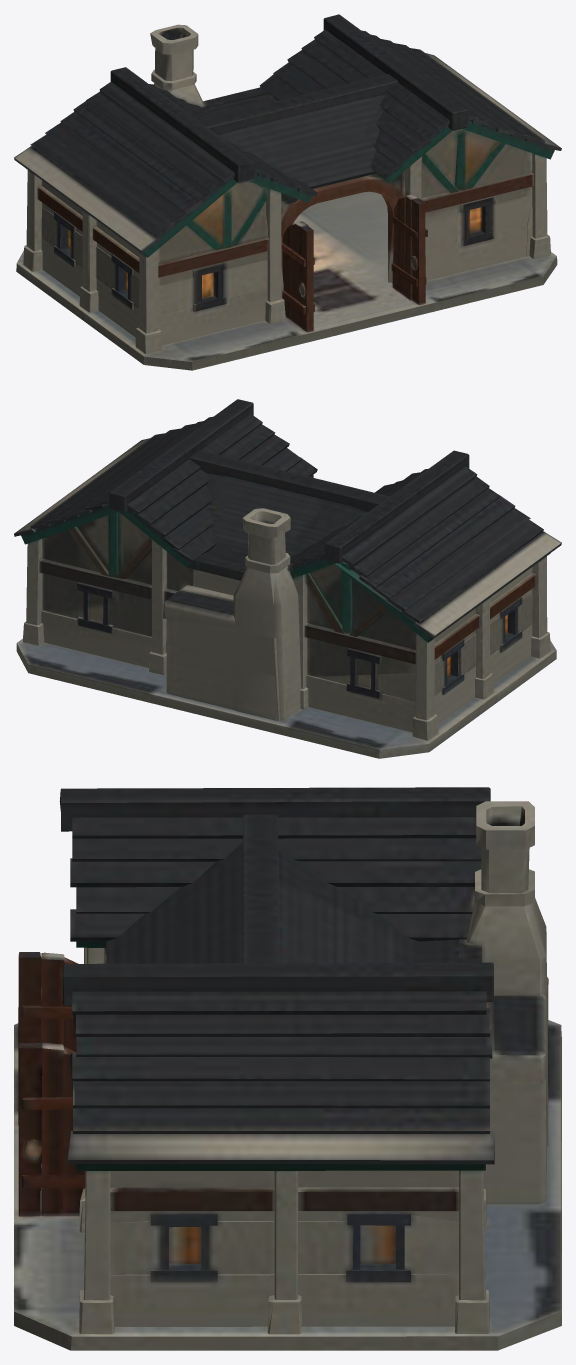
The model's file is execution-workshop-map.glb.
3 renders of one model, top to bottom at view 1: azimuth 30°, elevation 25°; view 2: azimuth 150°, elevation 25°; view 3: azimuth 270°, elevation 25°, orthographic. The views are drawn at different scales.
Bounding box in the file's own units: 0.9419 × 0.4224 × 0.6367.
Materials: 1 (1 with a texture image).
